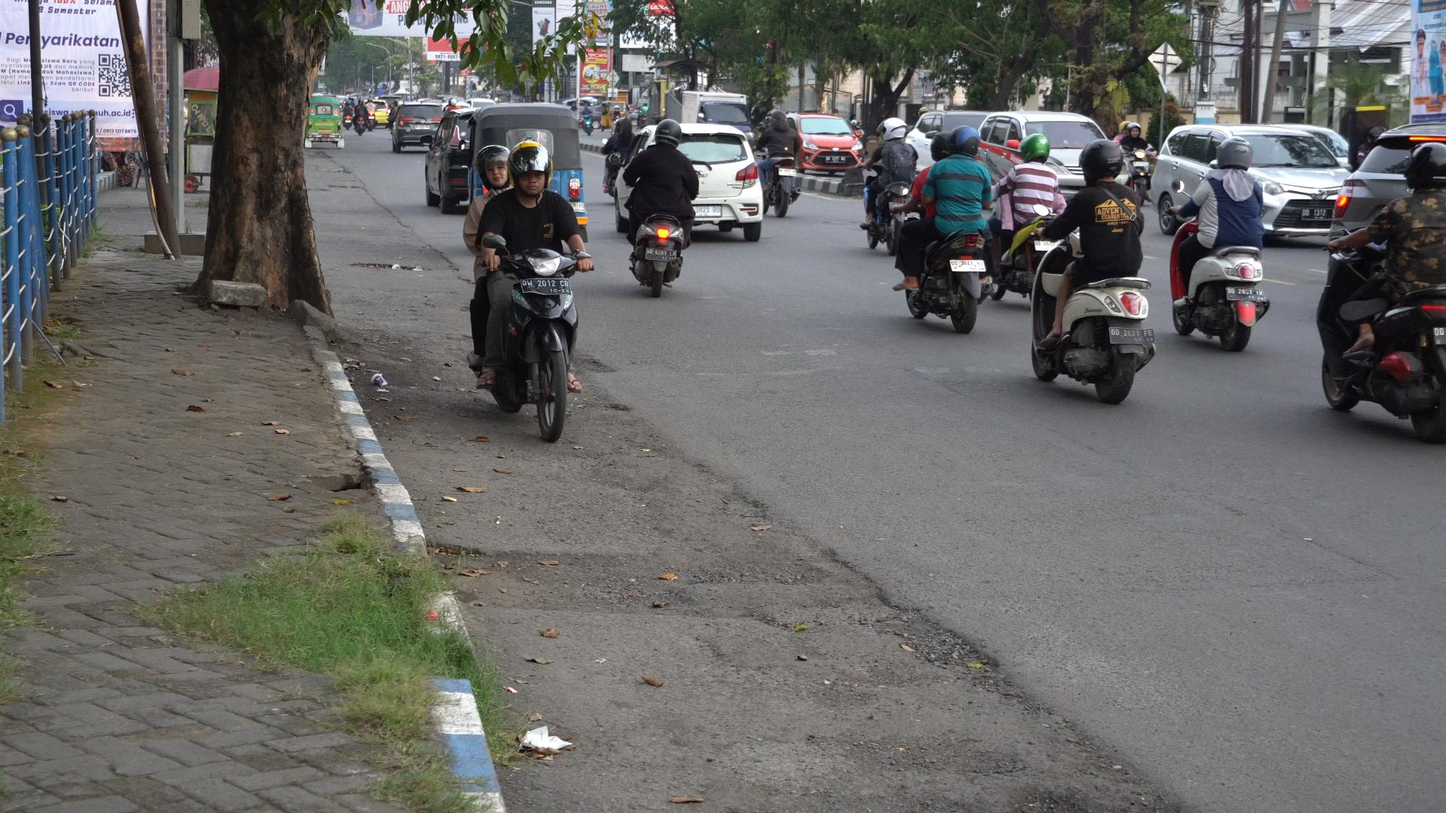number-plate: (517, 276, 572, 297)
